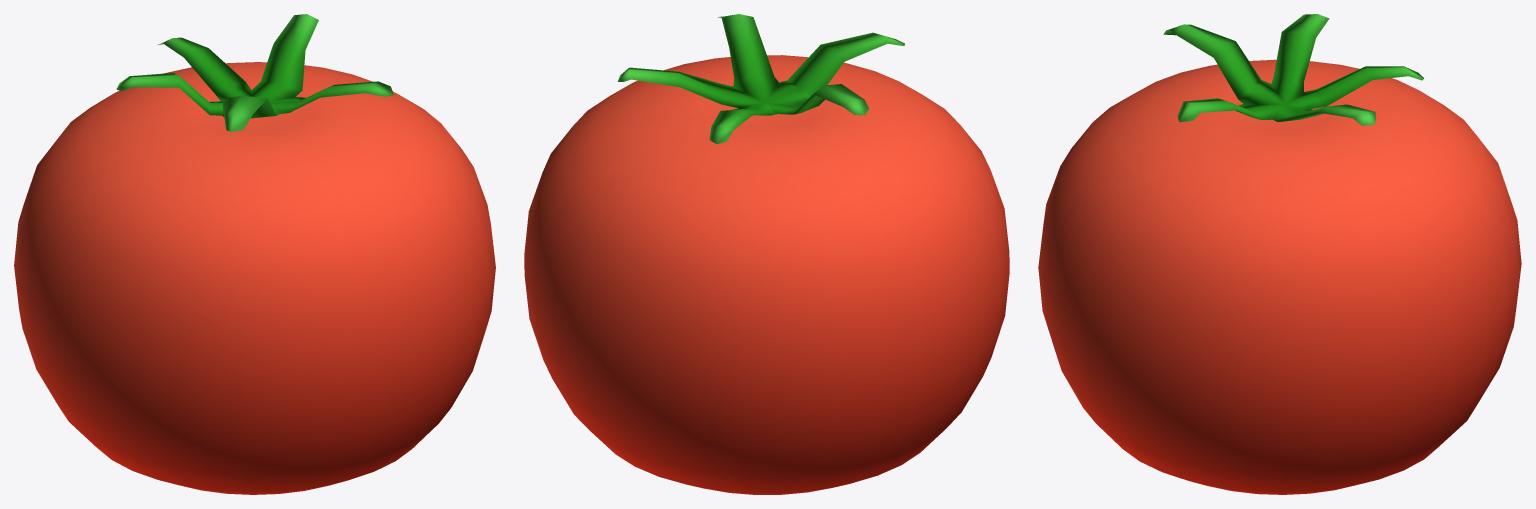
The model's file is Tomato.fbx.
3 views of the same model, side by side, from view 1: azimuth 30°, elevation 25°; view 2: azimuth 150°, elevation 25°; view 3: azimuth 270°, elevation 25° (orthographic).
Parts seen in each view (by area): view 1: Tomato; view 2: Tomato; view 3: Tomato.
Part boxes in pixels (x1,y1,x2,y2): Tomato: (14, 14, 495, 494); Tomato: (524, 14, 1009, 494); Tomato: (1038, 14, 1521, 494).
Size of the model in its own units: 98.36 by 89.02 by 98.35.
